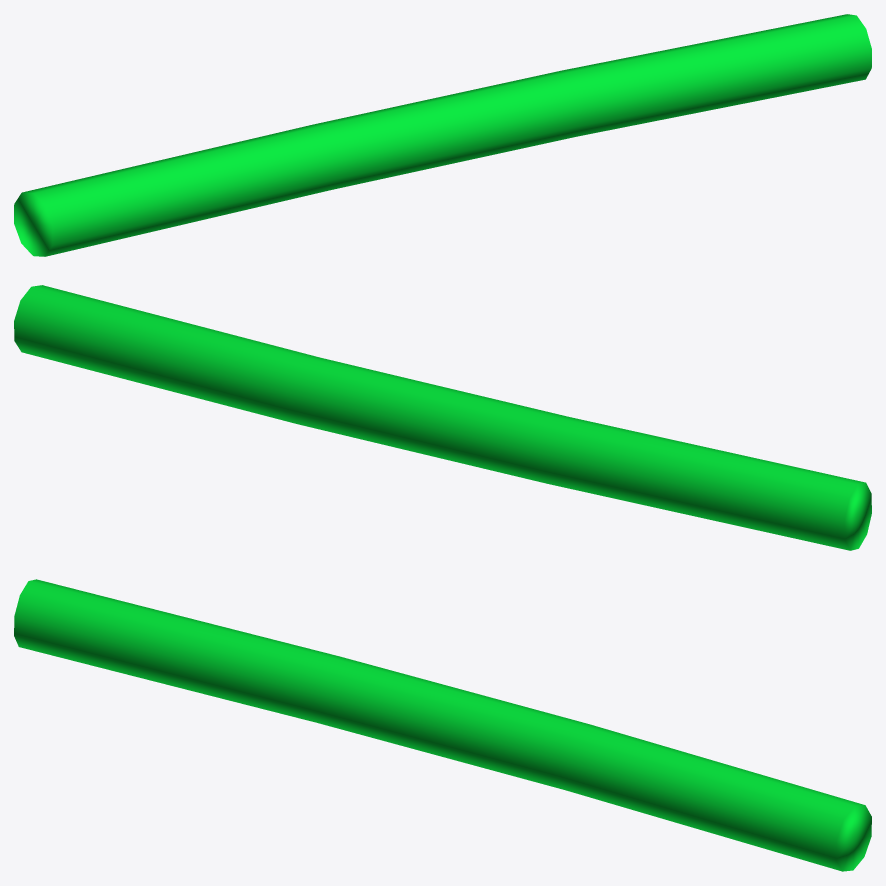
Rendered from Pipe_Turn_D_Int.fbx.
3 views of the same model, one above another, from view 1: azimuth 30°, elevation 25°; view 2: azimuth 150°, elevation 25°; view 3: azimuth 330°, elevation 25° (orthographic). The views are drawn at different scales.
Parts seen in each view (by area): view 1: Pipe_Turn_D_Int; view 2: Pipe_Turn_D_Int; view 3: Pipe_Turn_D_Int.
Part boxes in pixels (left/top/right/bottom): Pipe_Turn_D_Int: left=14, top=14, right=871, bottom=256; Pipe_Turn_D_Int: left=14, top=285, right=871, bottom=550; Pipe_Turn_D_Int: left=14, top=579, right=871, bottom=871.
Bounding box in the file's own units: 3.08 × 0.2718 × 0.2909.
